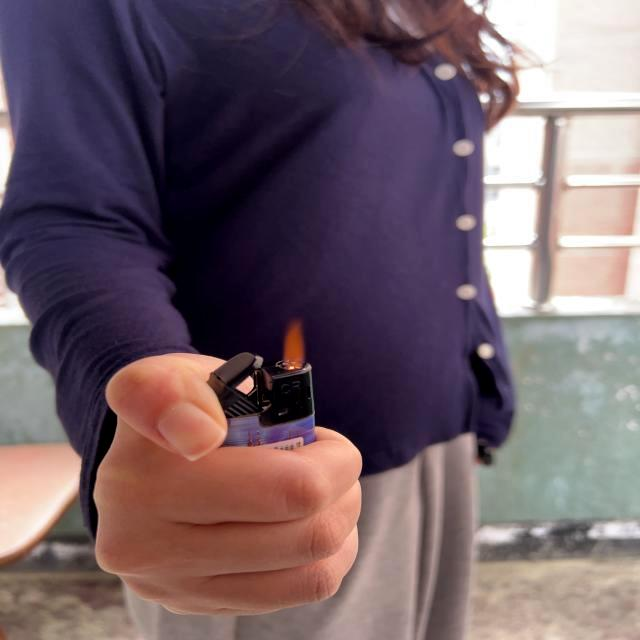fire: (280, 315, 304, 373)
